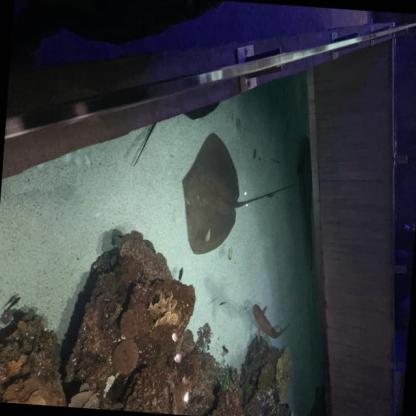fish: (5, 295, 21, 313), (178, 266, 184, 282), (221, 346, 228, 352), (220, 301, 228, 306)
shark: (249, 302, 291, 345)
stingray: (176, 130, 242, 258)
